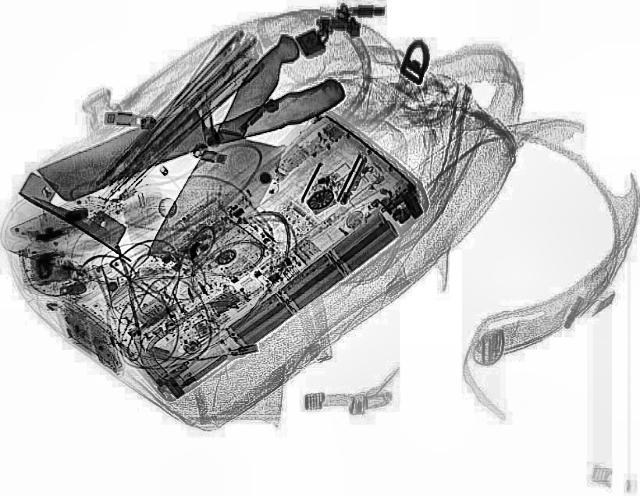Knife: (140, 32, 348, 272), (30, 57, 352, 204)
